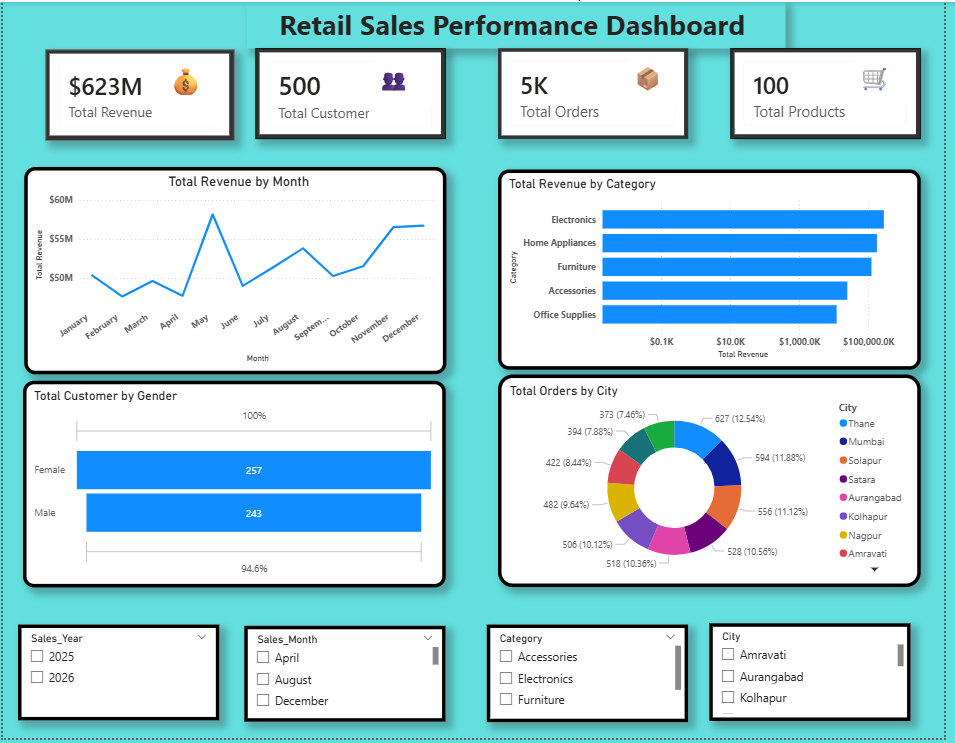

The page's visual inventory and layout, read from the dashboard file:
{"tool":"powerbi","page":{"name":"Page 1","canvas":[1279,1000],"ordinal":0},"visuals":[{"type":"textbox","box":[331.2,0,732,62.8],"z":0},{"type":"cardVisual","fields":{"Data":["Sales_Data.Total  Revenue"]},"box":[57.7,64.5,256.5,124],"z":1000},{"type":"cardVisual","fields":{"Data":["Sales_Data.Total Customer"]},"box":[343.6,63.6,258,123.5],"z":2000},{"type":"cardVisual","fields":{"Data":["Sales_Data.Total Orders"]},"box":[672.6,63.6,258,123.5],"z":3000},{"type":"cardVisual","fields":{"Data":["Sales_Data.Total Products"]},"box":[988,63.6,258,123.5],"z":4000},{"type":"lineChart","fields":{"Category":["Sales_Data.OrderDate.Variation.Date Hierarchy.Month"],"Y":["Sales_Data.Total  Revenue"]},"box":[28.1,223.8,573.5,281.3],"z":5000},{"type":"clusteredBarChart","fields":{"Category":["Sales_Data.Category"],"Y":["Sales_Data.Total  Revenue"]},"box":[672.6,227.6,574.1,271.7],"z":6000},{"type":"funnel","fields":{"Category":["Sales_Data.Gender"],"Y":["Sales_Data.Total Customer"]},"box":[28,515,574,281],"z":7000},{"type":"donutChart","fields":{"Y":["Sales_Data.Total Orders"],"Category":["Sales_Data.City"]},"box":[672.6,506.1,574.1,288.7],"z":8000},{"type":"slicer","fields":{"Values":["Sales_Data.Sales_Year"]},"box":[20.4,845.8,273.4,130.8],"z":9000},{"type":"slicer","fields":{"Values":["Sales_Data.Sales_Month"]},"box":[327.8,847.5,273.4,130.8],"z":10000},{"type":"slicer","fields":{"Values":["Sales_Data.Category"]},"box":[657.3,845.8,273.4,132.5],"z":11000},{"type":"slicer","fields":{"Values":["Sales_Data.City"]},"box":[959.6,844.1,273.4,132.5],"z":12000},{"type":"textbox","box":[217.4,76.4,76.4,64.5],"z":12001},{"type":"textbox","box":[504.4,76.4,79.8,64.5],"z":12002},{"type":"textbox","box":[849.2,76.4,67.9,64.5],"z":12003},{"type":"textbox","box":[1156.6,76.4,76.4,64.5],"z":12004}]}

Visuals, with their boxes in screenshot pixels (x1, y1, x2, y2), scaled from the page's 1279x1000 canvas onto the 955x743 screenshot:
textbox: bbox=[247, 0, 794, 47]
cardVisual - Sales_Data.Total  Revenue: bbox=[43, 48, 235, 140]
cardVisual - Sales_Data.Total Customer: bbox=[257, 47, 449, 139]
cardVisual - Sales_Data.Total Orders: bbox=[502, 47, 695, 139]
cardVisual - Sales_Data.Total Products: bbox=[738, 47, 930, 139]
lineChart - Sales_Data.OrderDate.Variation.Date Hierarchy.Month x Sales_Data.Total  Revenue: bbox=[21, 166, 449, 375]
clusteredBarChart - Sales_Data.Category x Sales_Data.Total  Revenue: bbox=[502, 169, 931, 371]
funnel - Sales_Data.Gender x Sales_Data.Total Customer: bbox=[21, 383, 449, 591]
donutChart - Sales_Data.Total Orders x Sales_Data.City: bbox=[502, 376, 931, 591]
slicer - Sales_Data.Sales_Year: bbox=[15, 628, 219, 726]
slicer - Sales_Data.Sales_Month: bbox=[245, 630, 449, 727]
slicer - Sales_Data.Category: bbox=[491, 628, 695, 727]
slicer - Sales_Data.City: bbox=[717, 627, 921, 726]
textbox: bbox=[162, 57, 219, 105]
textbox: bbox=[377, 57, 436, 105]
textbox: bbox=[634, 57, 685, 105]
textbox: bbox=[864, 57, 921, 105]
